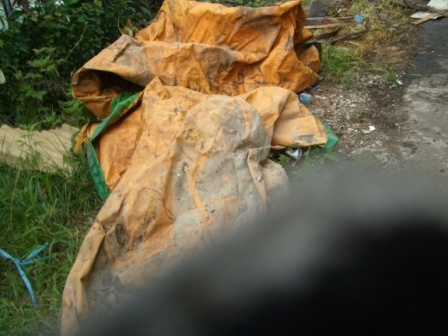plastic_bag: (97, 87, 293, 238), (144, 1, 319, 90)
